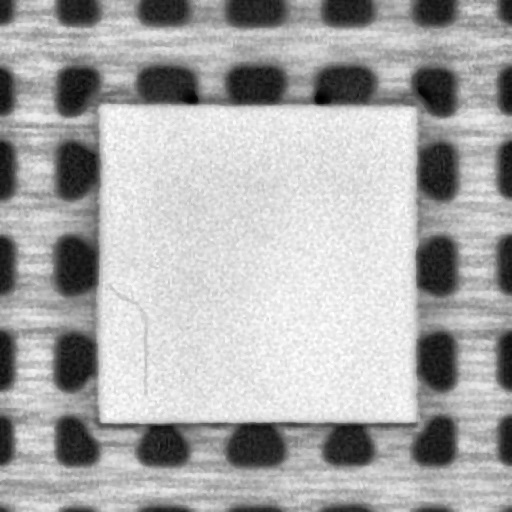DIE_CRACK: (106, 282, 150, 394)
